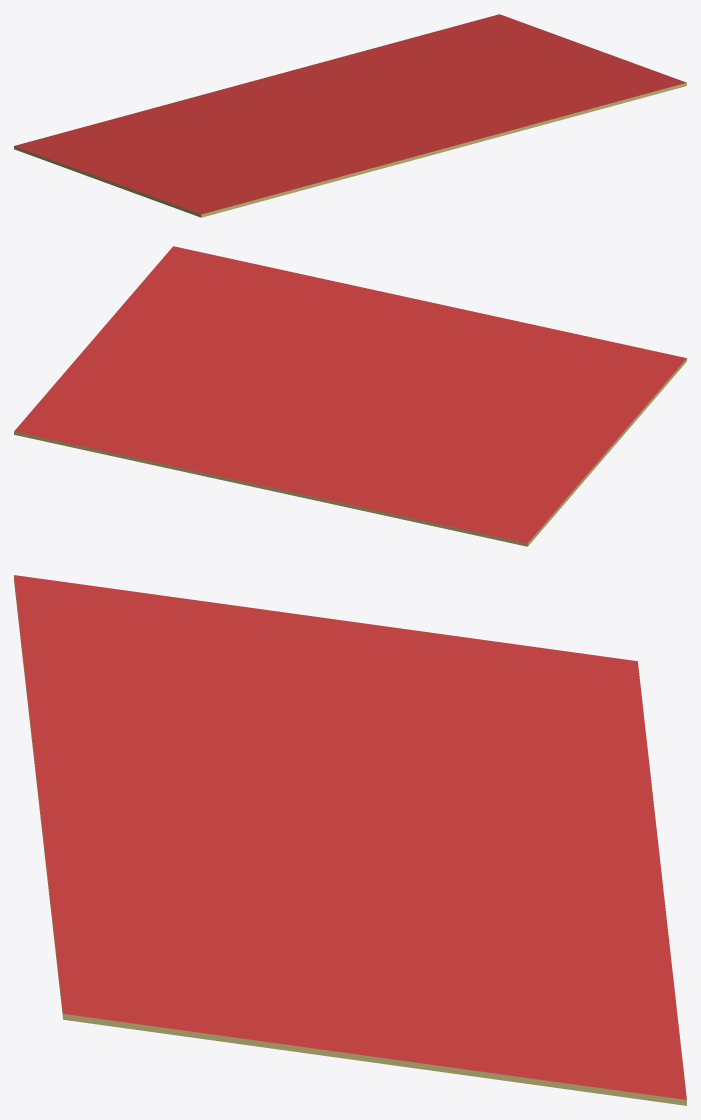
3 renders of one model, top to bottom at view 1: azimuth 30°, elevation 25°; view 2: azimuth 150°, elevation 25°; view 3: azimuth 270°, elevation 25°, orthographic. The views are drawn at different scales.
Size of the model in its own units: 16.27 by 10.25 by 1.76.
